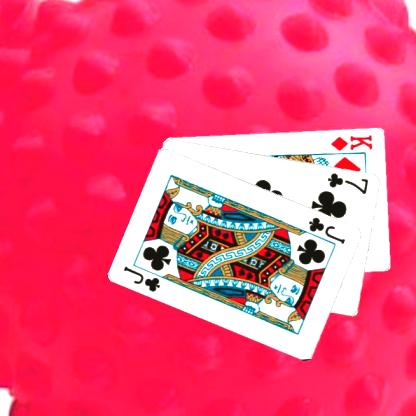7C: (325, 170, 370, 195)
JC: (306, 214, 347, 245), (121, 263, 162, 293)
KD: (328, 132, 374, 152)
